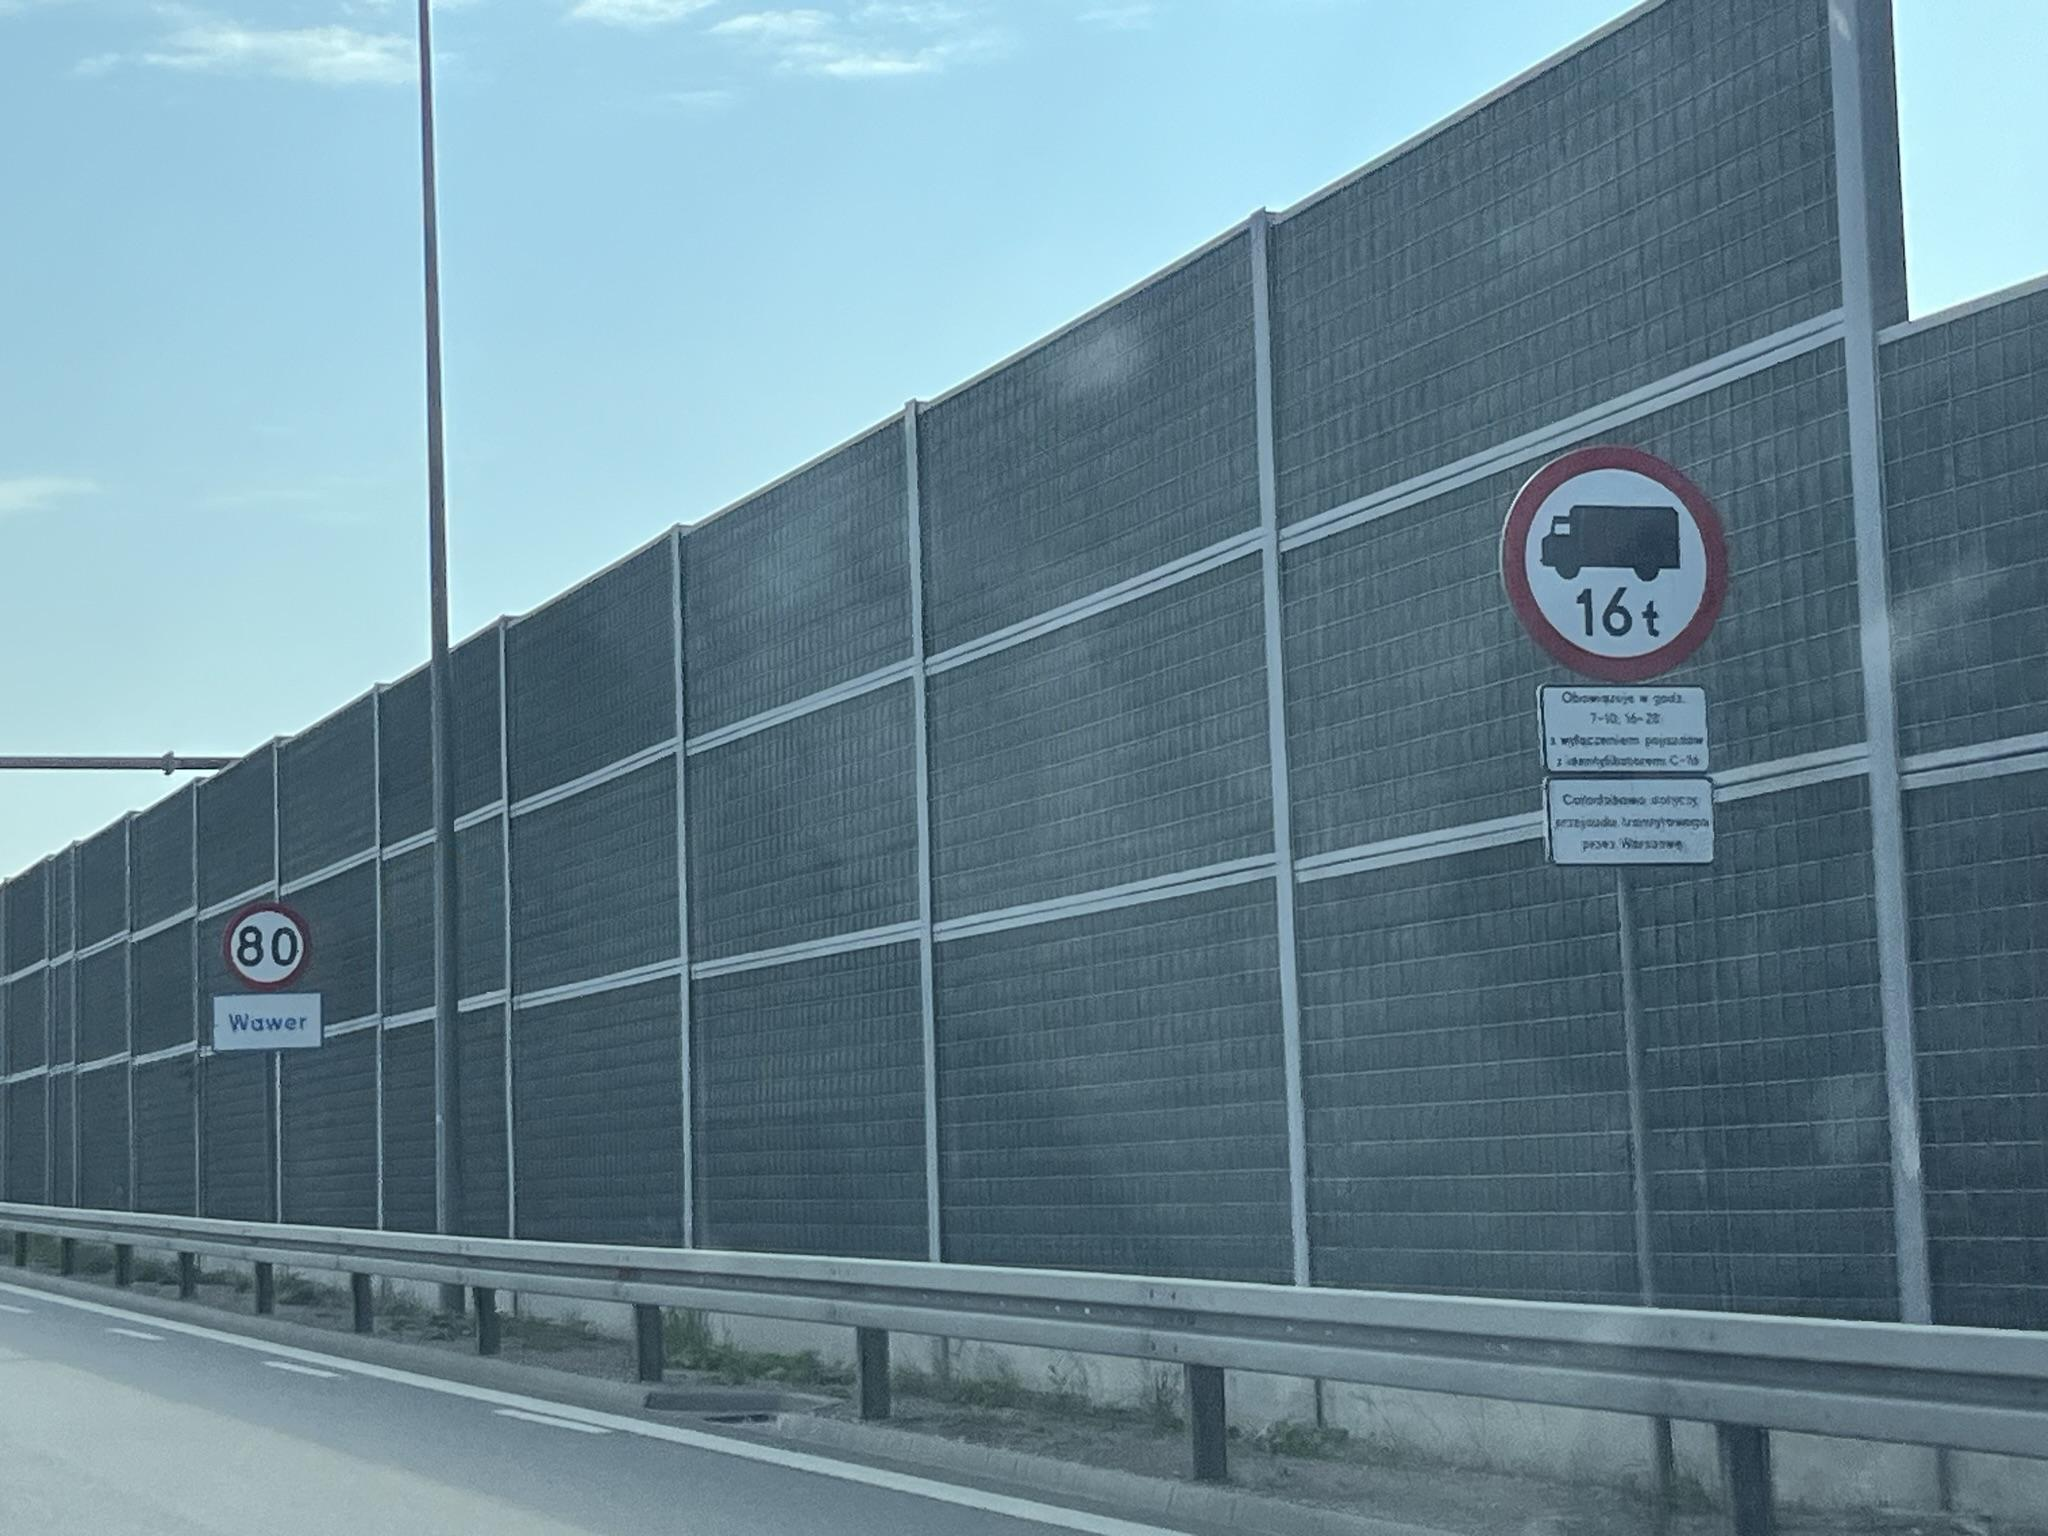direction-city: (208, 991, 326, 1054)
other: (1543, 776, 1722, 870), (1534, 684, 1717, 770)
prohibitory: (1496, 440, 1732, 687), (224, 904, 311, 991)
